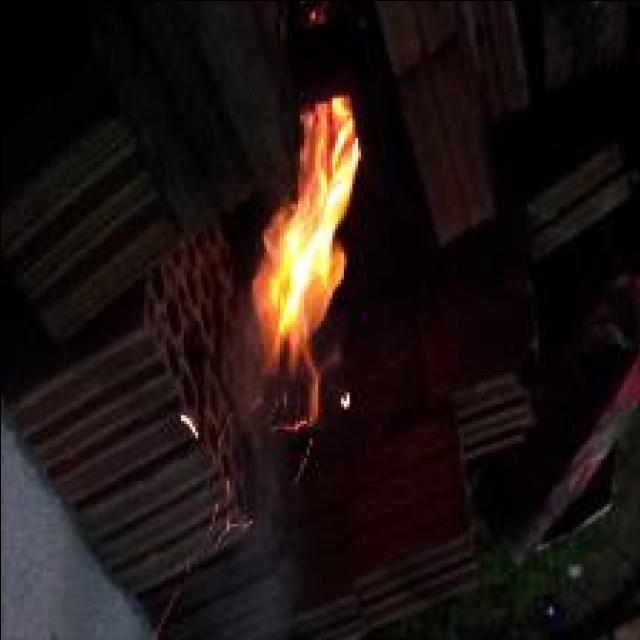Fire: (245, 96, 362, 433)
